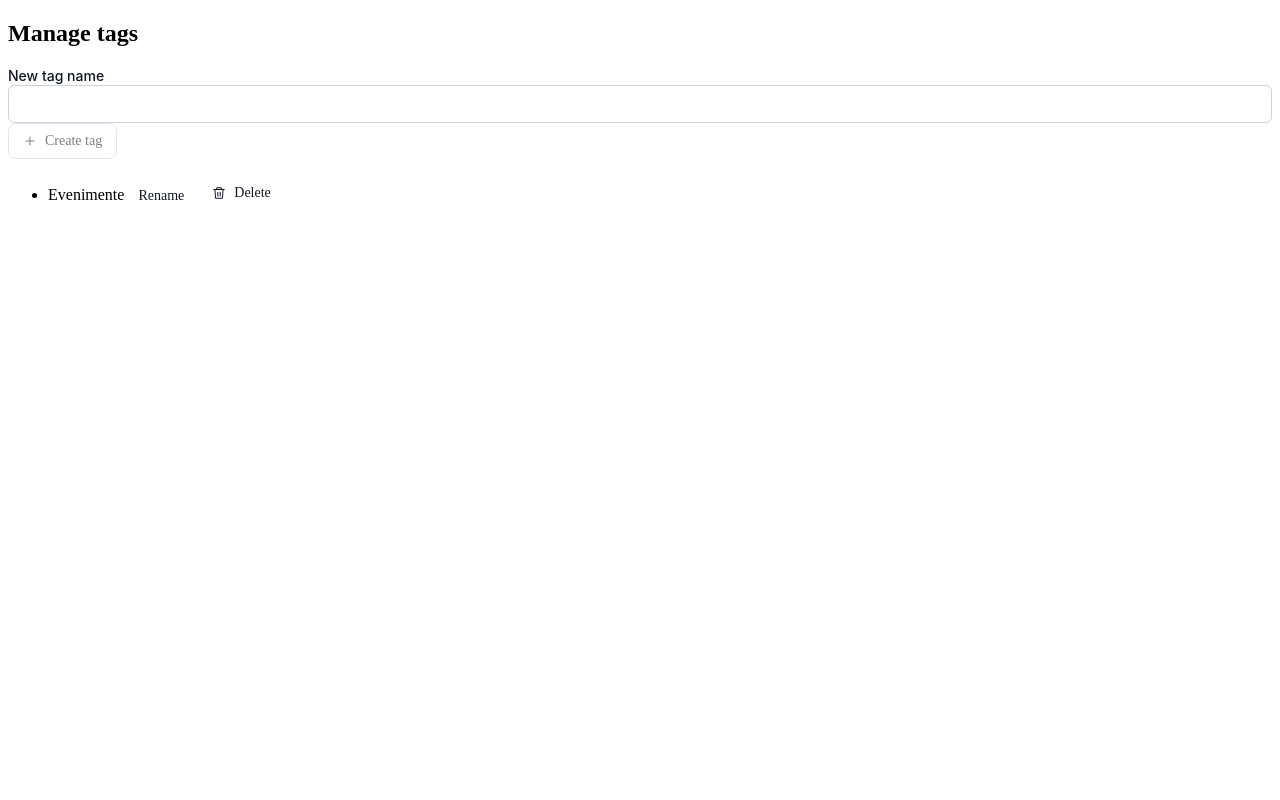
Scenario: TagManager › deletion warns about tagged articles before removing anything
Click the button "Delete": (242, 193) [198,175,285,211]
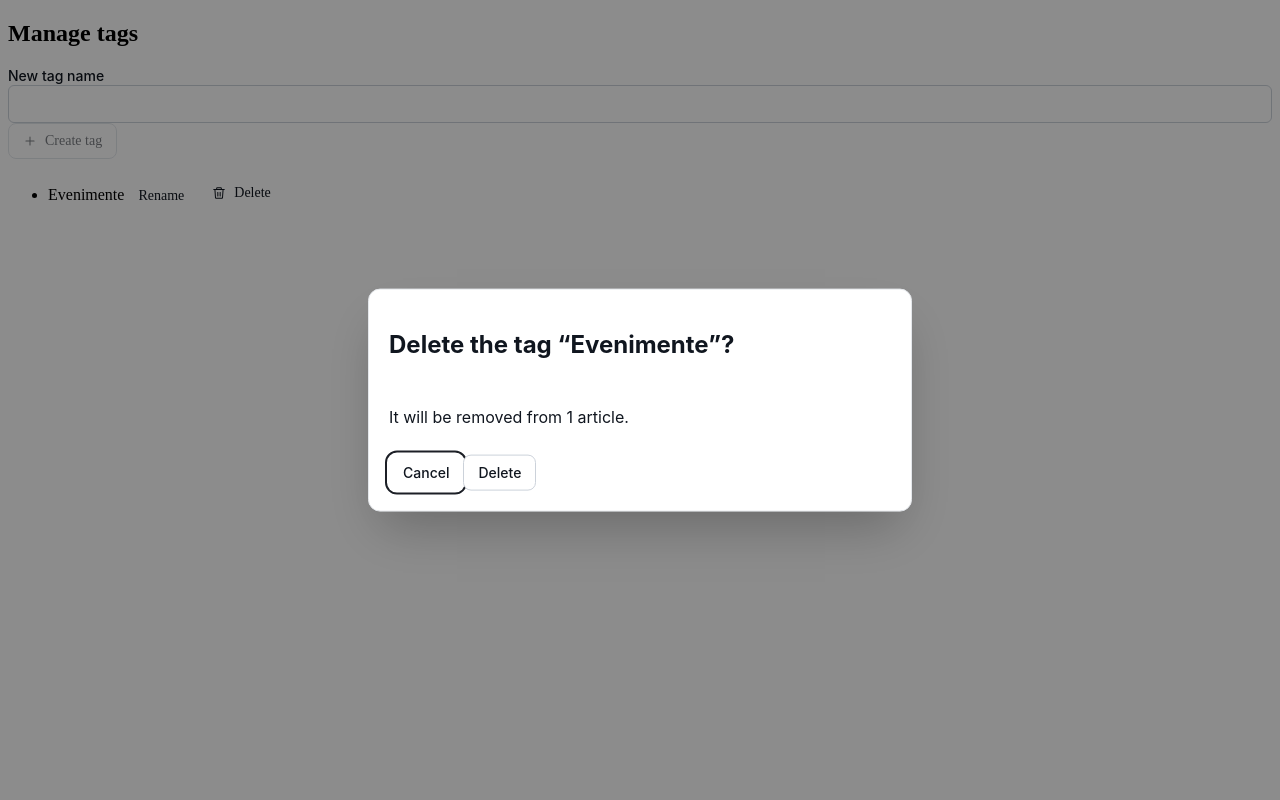
Expected: the list with test id "tag-manager-list" shows "Evenimente", [48,186,124,203]
Result: the text with test id "tag-delete-articles" shows "1 article" at [389,406,629,426]
